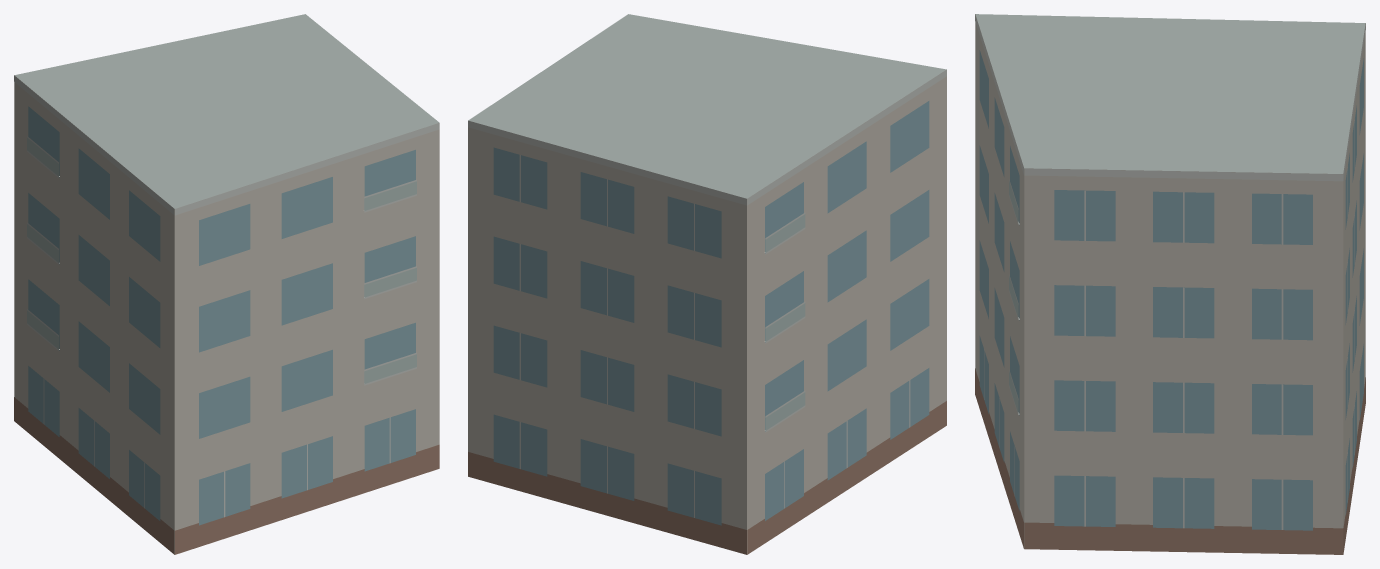
Rendered from survey-upis-32475332.glb.
3 renders of one model, left to right at view 1: azimuth 30°, elevation 25°; view 2: azimuth 150°, elevation 25°; view 3: azimuth 270°, elevation 25°, orthographic. The views are drawn at different scales.
Visible parts, largest first — view 1: survey-upis-32475332.tmp; view 2: survey-upis-32475332.tmp; view 3: survey-upis-32475332.tmp.
Boxes of the visible parts, box(x1,y1,x2,y2) form: survey-upis-32475332.tmp: box(14, 14, 439, 554); survey-upis-32475332.tmp: box(468, 14, 946, 554); survey-upis-32475332.tmp: box(975, 14, 1365, 554).
Size of the model in its own units: 11.55 by 12.8 by 11.9.
